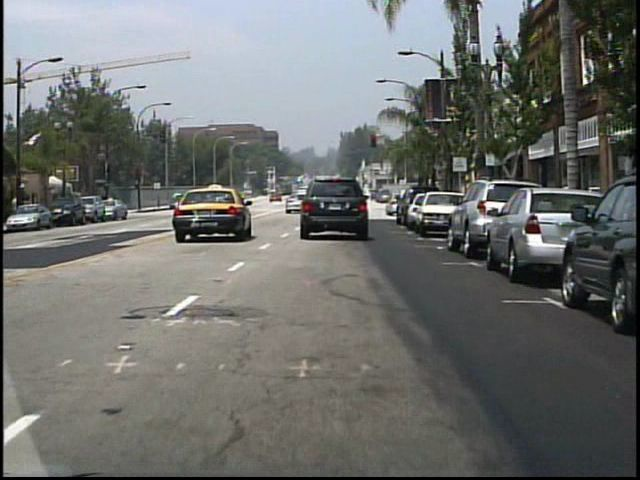person: (334, 190, 348, 213), (224, 189, 237, 212)
